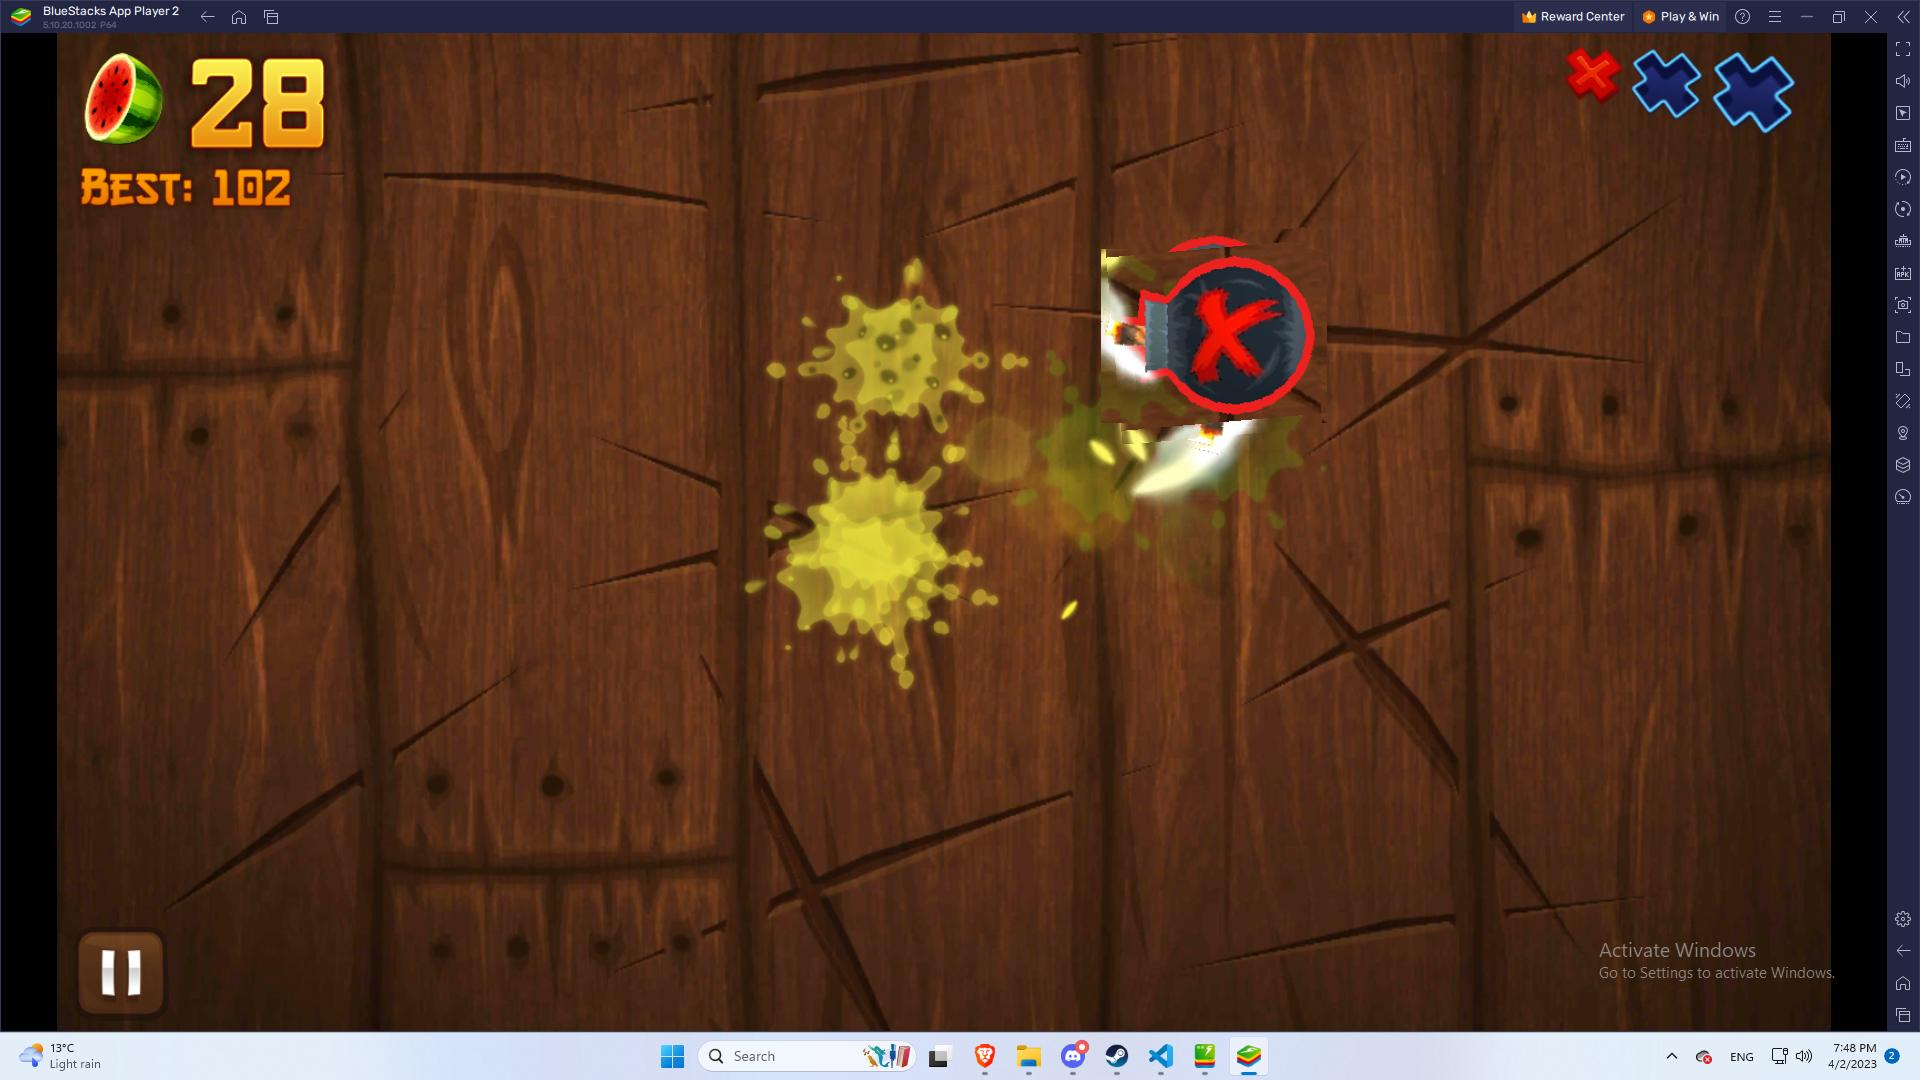bomb: (1110, 232, 1319, 440)
